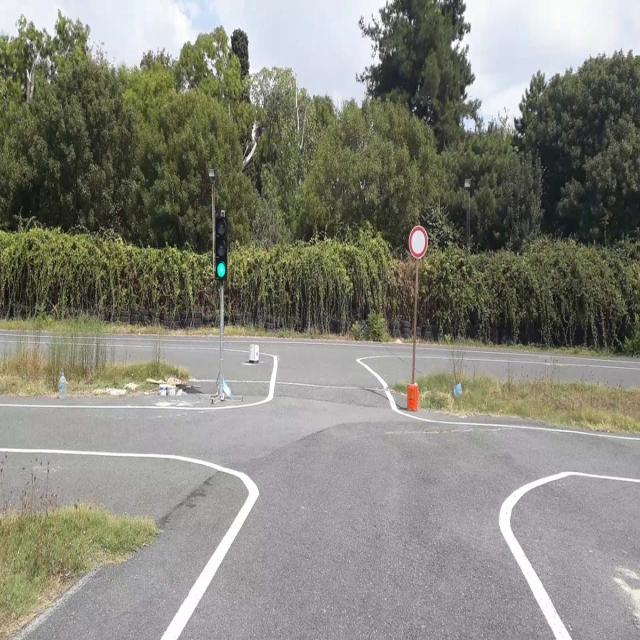yesil: (215, 217, 228, 280)
